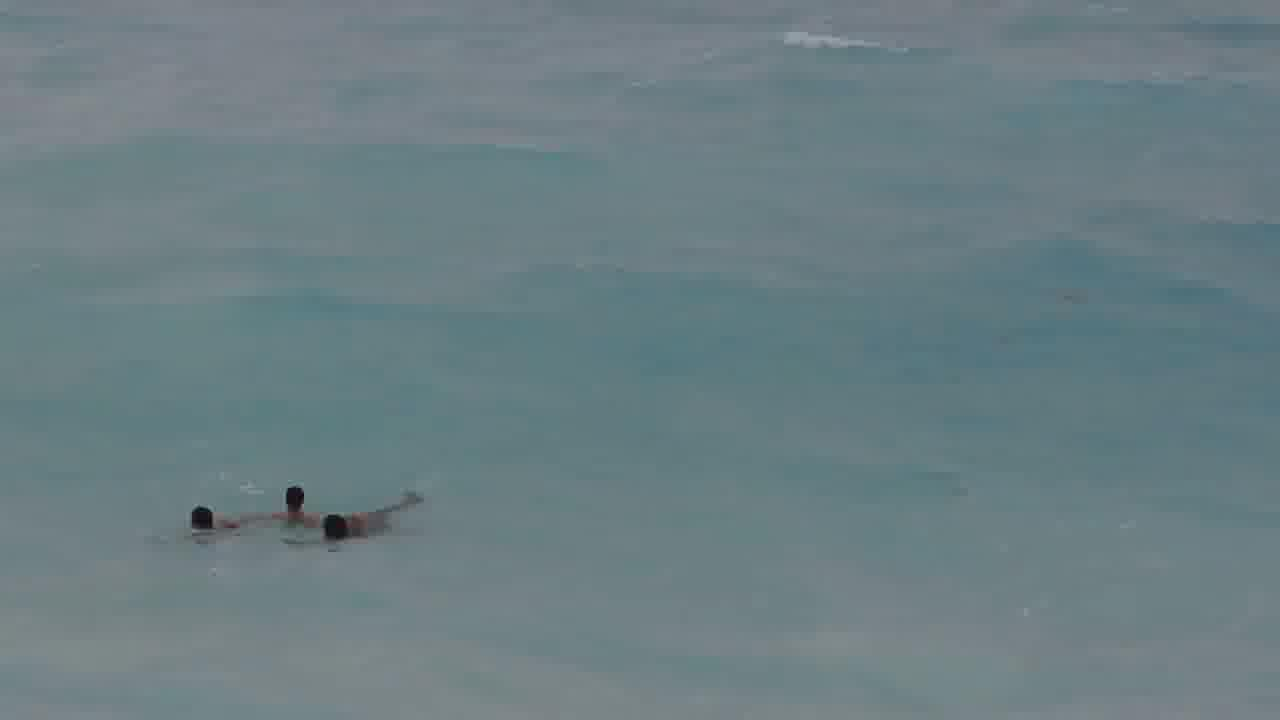swimmer: (323, 507, 360, 549), (273, 475, 306, 520), (184, 497, 212, 544)
